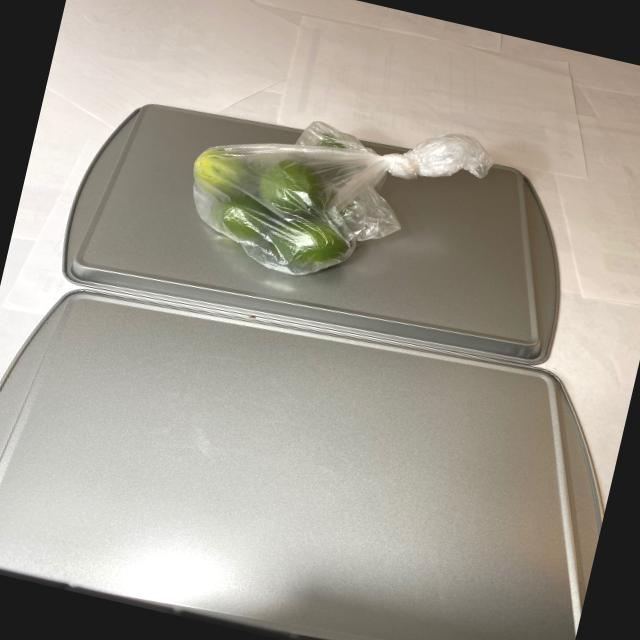lemon: (168, 102, 388, 293)
